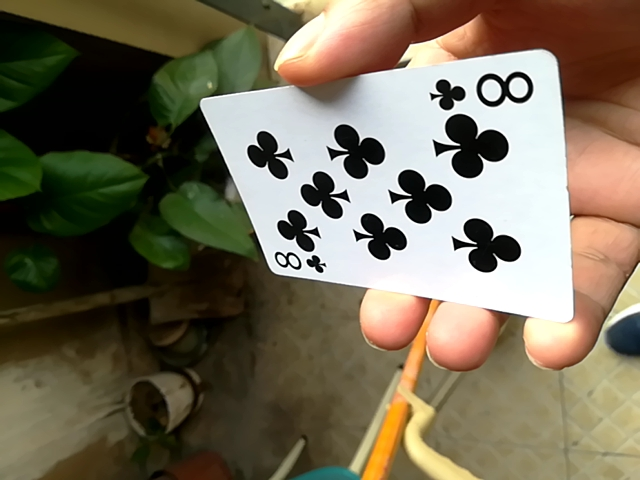mh 8: (191, 54, 578, 315)
